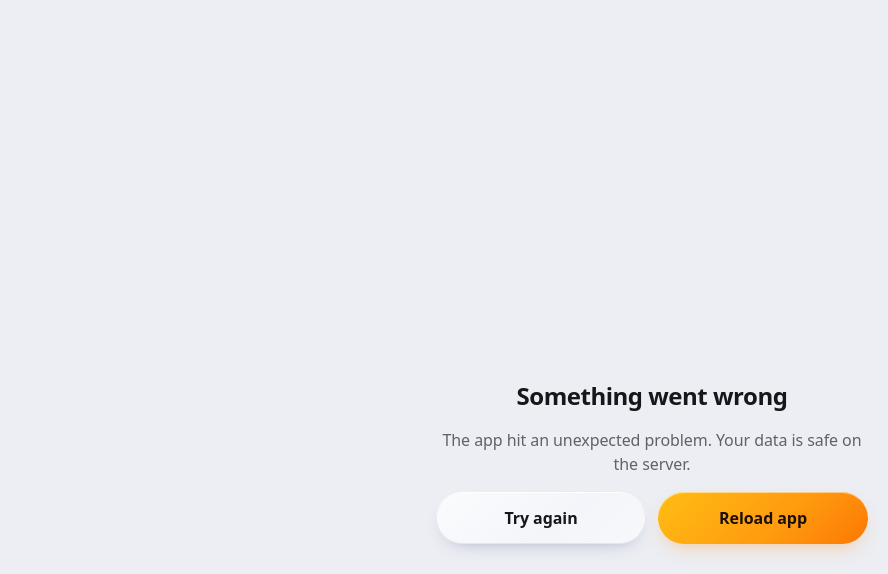
Scenario: ErrorBoundary › "Try again" renders the children again, and recovers if the problem has gone
What coordinates should you click on to do the following:
click the button "Try again"
I would click on:
 (541, 518)
Its box is [436,492,646,544].
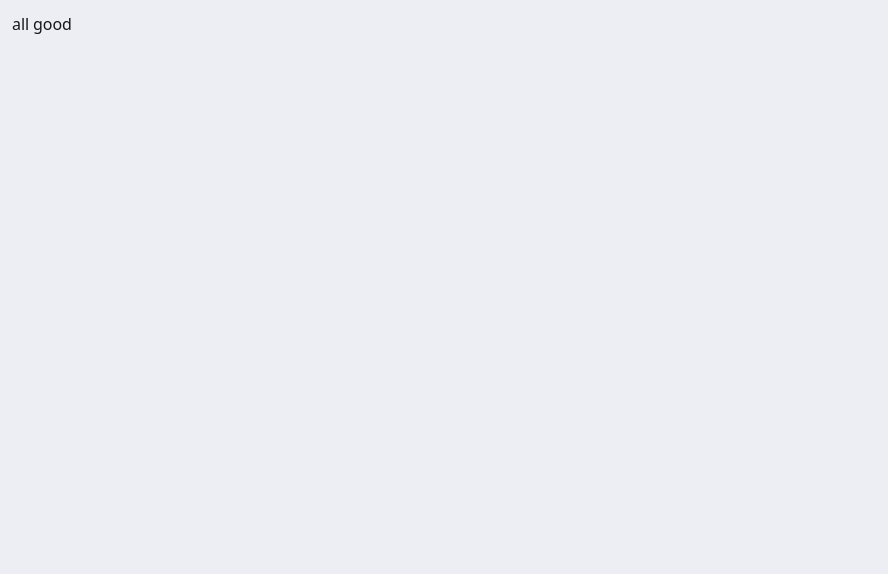
expect the text "all good" is shown: met, box [12,13,72,35]
